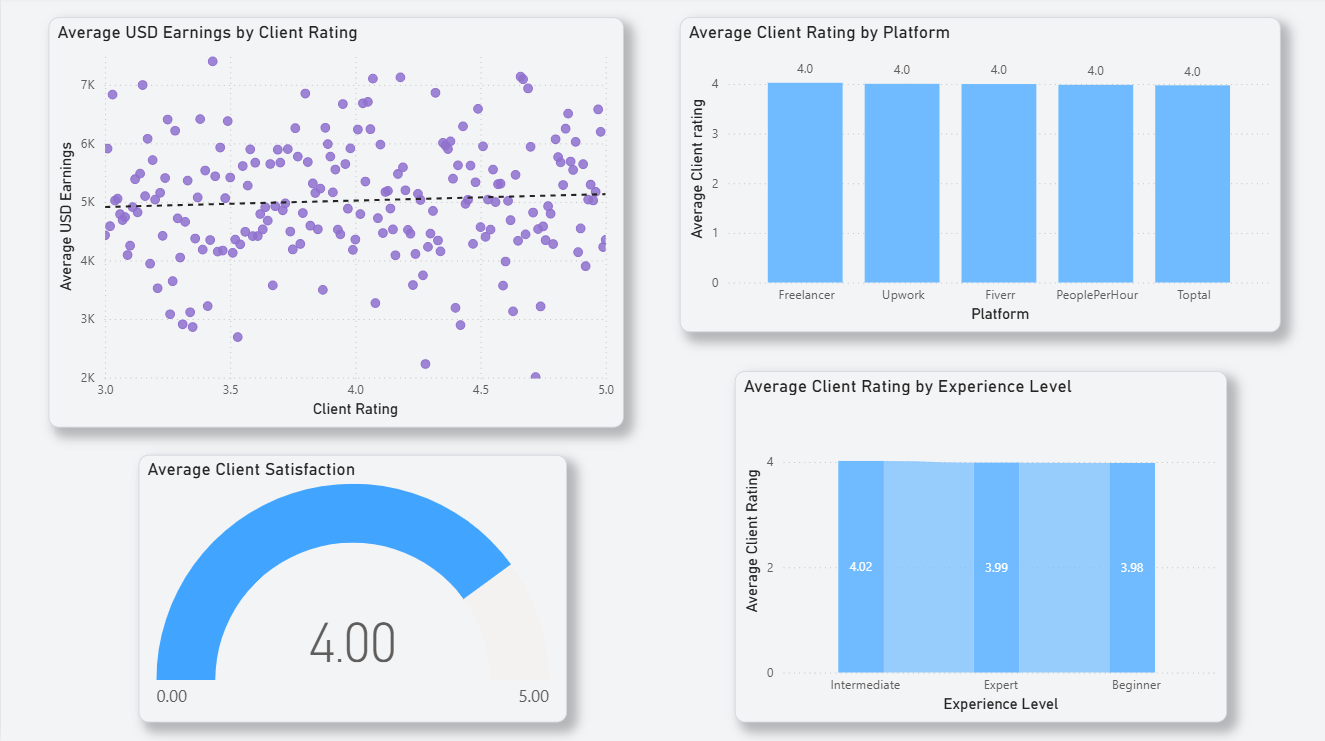

The dashboard page shown, as its layout file describes it:
{"tool":"powerbi","page":{"name":"Client Rate","canvas":[1280,720],"ordinal":5},"visuals":[{"type":"columnChart","title":"Average Client Rating by Platform","fields":{"Category":["freelancer_earnings_bd - freelancer_earnings_bd csv csv.Platform"],"Y":["Avg(freelancer_earnings_bd - freelancer_earnings_bd csv csv.Client Rating)"]},"box":[655.1,20.5,580.3,304],"z":0},{"type":"scatterChart","title":"Average USD Earnings by Client Rating","fields":{"X":["freelancer_earnings_bd - freelancer_earnings_bd csv csv.Client Rating"],"Y":["Avg(freelancer_earnings_bd - freelancer_earnings_bd csv csv.Earnings USD)"]},"box":[45.8,20.5,555,395.7],"z":1000},{"type":"ribbonChart","title":"Average Client Rating by Experience Level","fields":{"Category":["freelancer_earnings_bd - freelancer_earnings_bd csv csv.Experience Level"],"Y":["Avg(freelancer_earnings_bd - freelancer_earnings_bd csv csv.Client Rating)"]},"box":[708.2,361.9,475.3,339],"z":2000},{"type":"gauge","title":"Average Client Satisfaction","fields":{"Y":["Avg(freelancer_earnings_bd - freelancer_earnings_bd csv csv.Client Rating)"]},"box":[132.7,442.8,413.8,258.2],"z":3000}]}

Visuals, with their boxes in screenshot pixels (x1, y1, x2, y2), scaled from the page's 1280x720 canvas onto the 1325x741 screenshot:
"Average Client Rating by Platform" columnChart: pyautogui.locateOnScreen(678, 21, 1279, 334)
"Average USD Earnings by Client Rating" scatterChart: pyautogui.locateOnScreen(47, 21, 622, 428)
"Average Client Rating by Experience Level" ribbonChart: pyautogui.locateOnScreen(733, 372, 1225, 721)
"Average Client Satisfaction" gauge: pyautogui.locateOnScreen(137, 456, 566, 721)
